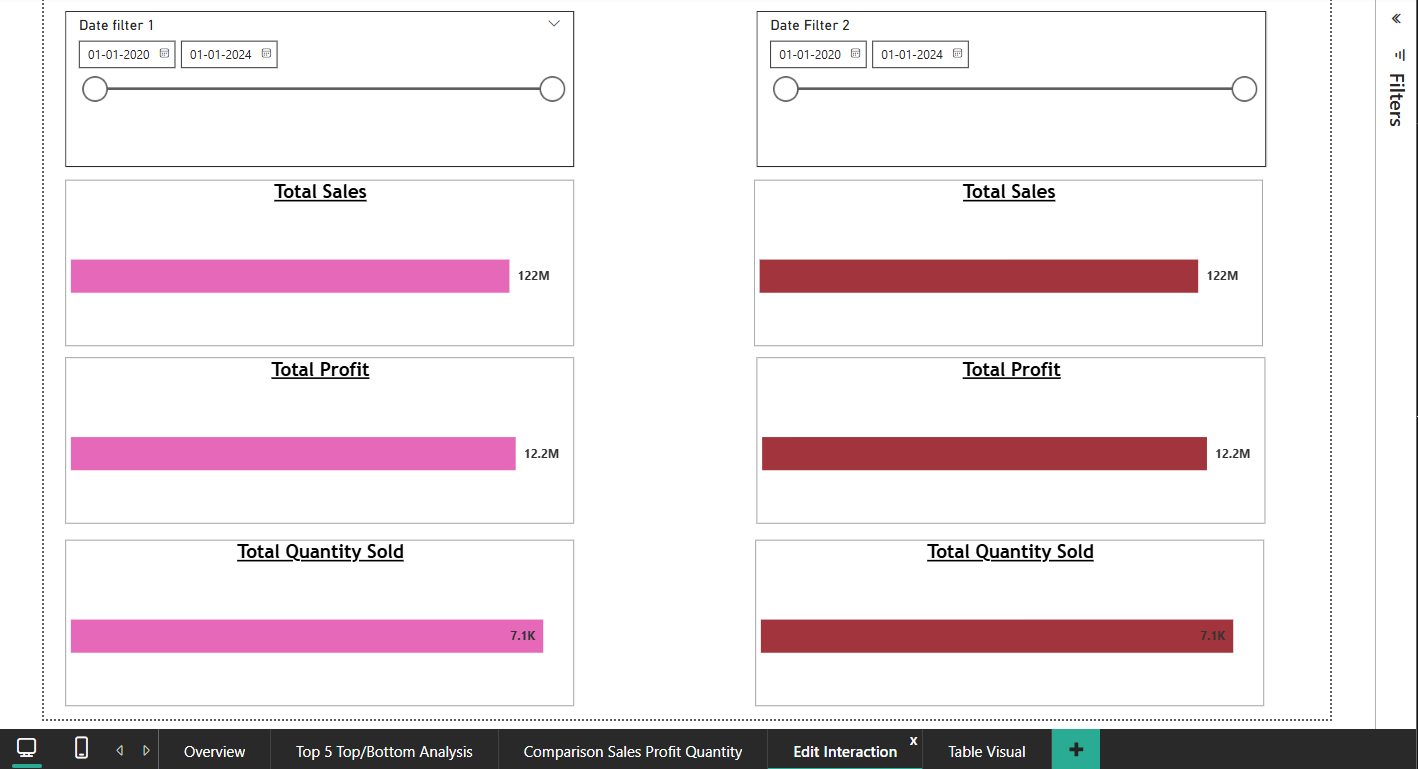

The dashboard page shown, as its layout file describes it:
{"tool":"powerbi","page":{"name":"Edit Interaction","canvas":[1280,720],"ordinal":3},"visuals":[{"type":"slicer","fields":{"Values":["Fact Table.Date (dd/mm/yyyy)"]},"box":[21.1,14.9,506.3,155.5],"z":0},{"type":"slicer","fields":{"Values":["Fact Table.Date (dd/mm/yyyy)"]},"box":[709.1,14.9,507.5,155.5],"z":1000},{"type":"barChart","title":"Total Sales","fields":{"Y":["Sum(Fact Table.Net Sales)"]},"box":[21.1,182.9,506.3,165.4],"z":2000},{"type":"barChart","title":"Total Profit","fields":{"Y":["Sum(Fact Table.Profit)"]},"box":[21.1,359.5,506.3,165.4],"z":3000},{"type":"barChart","title":"Total Quantity Sold","fields":{"Y":["Sum(Fact Table.Units Sold)"]},"box":[21.1,541.1,506.3,165.4],"z":4000},{"type":"barChart","title":"Total Sales","fields":{"Y":["Sum(Fact Table.Net Sales)"]},"box":[706.6,182.9,506.3,165.4],"z":5000},{"type":"barChart","title":"Total Profit","fields":{"Y":["Sum(Fact Table.Profit)"]},"box":[709.1,359.5,506.3,165.4],"z":6000},{"type":"barChart","title":"Total Quantity Sold","fields":{"Y":["Sum(Fact Table.Units Sold)"]},"box":[707.8,541.1,506.3,165.4],"z":7000}]}

Visuals, with their boxes on the page's 1280x720 design canvas (x1, y1, x2, y2). These are canvas units, not pixel positions in the 1418x769 screenshot, which may show the page scaled, cropped or inside an application window:
slicer - Fact Table.Date (dd/mm/yyyy): locate(21, 15, 527, 170)
slicer - Fact Table.Date (dd/mm/yyyy): locate(709, 15, 1217, 170)
"Total Sales" barChart: locate(21, 183, 527, 348)
"Total Profit" barChart: locate(21, 360, 527, 525)
"Total Quantity Sold" barChart: locate(21, 541, 527, 706)
"Total Sales" barChart: locate(707, 183, 1213, 348)
"Total Profit" barChart: locate(709, 360, 1215, 525)
"Total Quantity Sold" barChart: locate(708, 541, 1214, 706)
